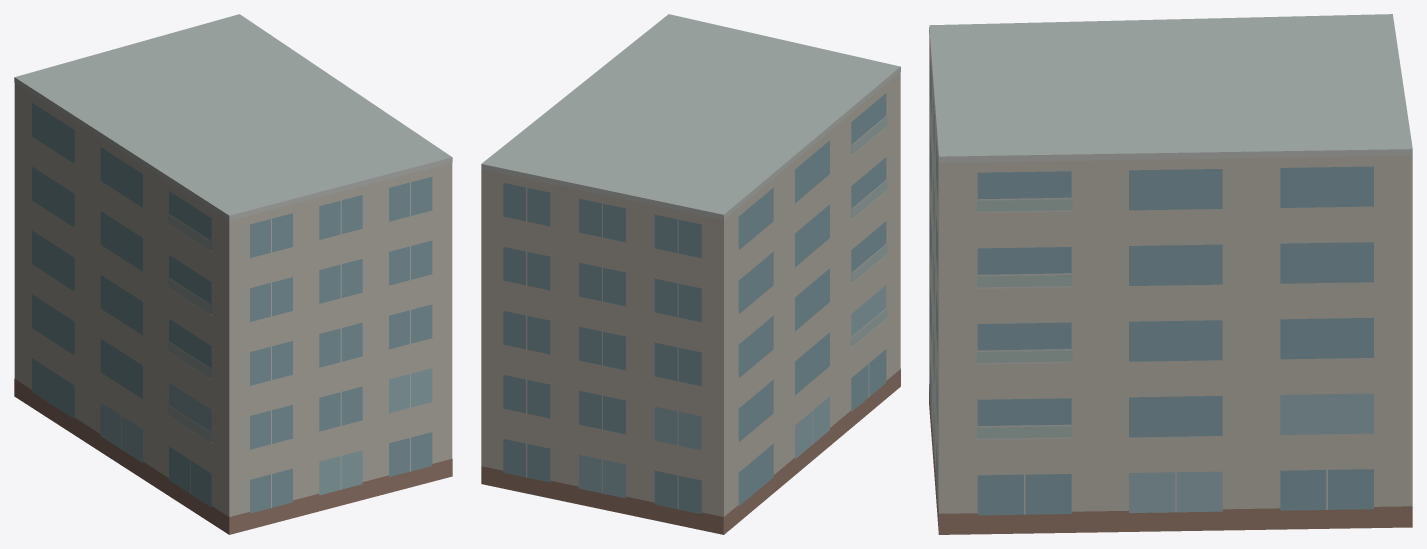
The model's file is survey-upis-32767984.glb.
3 views of the same model, side by side, from view 1: azimuth 30°, elevation 25°; view 2: azimuth 150°, elevation 25°; view 3: azimuth 270°, elevation 25° (orthographic). The views are drawn at different scales.
Visible parts, largest first — view 1: survey-upis-32767984.tmp; view 2: survey-upis-32767984.tmp; view 3: survey-upis-32767984.tmp.
Part boxes in pixels (bbox=[...]): survey-upis-32767984.tmp: bbox=[14, 14, 452, 534]; survey-upis-32767984.tmp: bbox=[481, 14, 900, 534]; survey-upis-32767984.tmp: bbox=[929, 14, 1412, 534].
Size of the model in its own units: 11.81 by 14.6 by 16.93.
